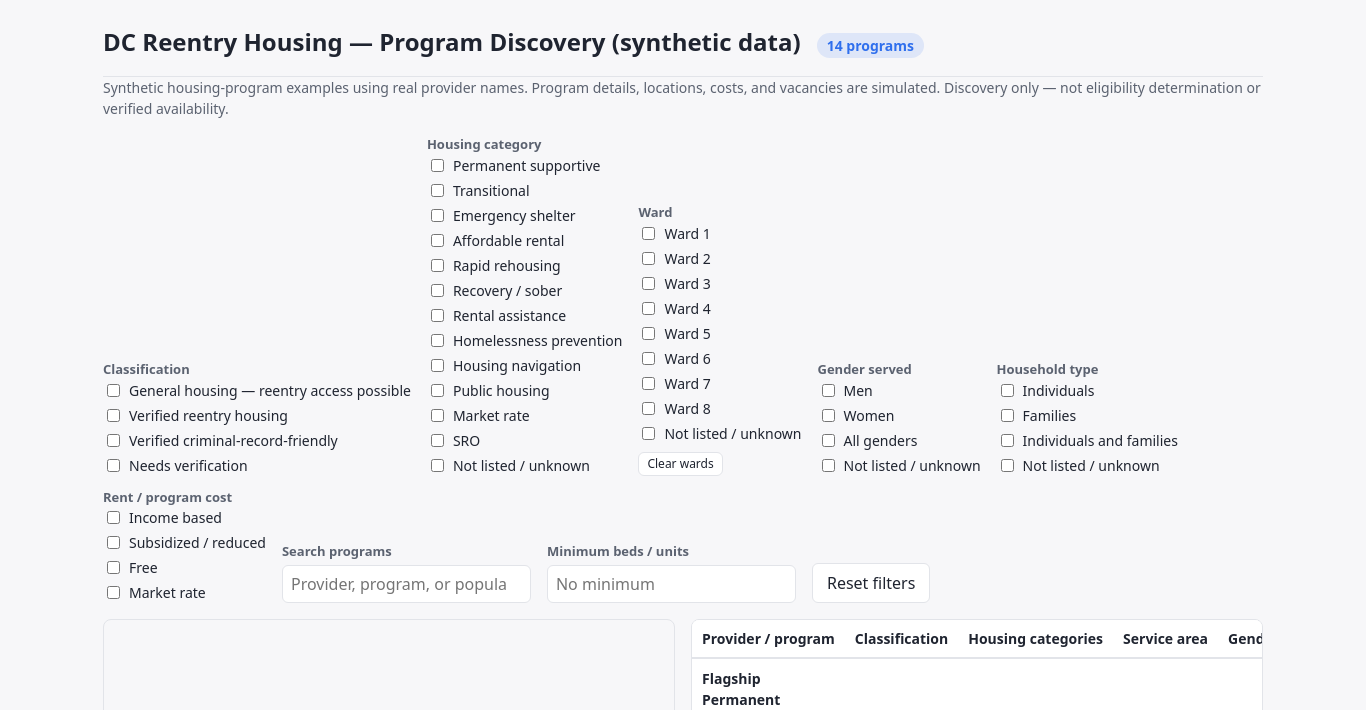
Test case: App integration › keeps previously committed results while the draft is invalid
Click the checkbox labelled "Verified reentry housing". click: (114, 415)
box: [107,408,120,422]
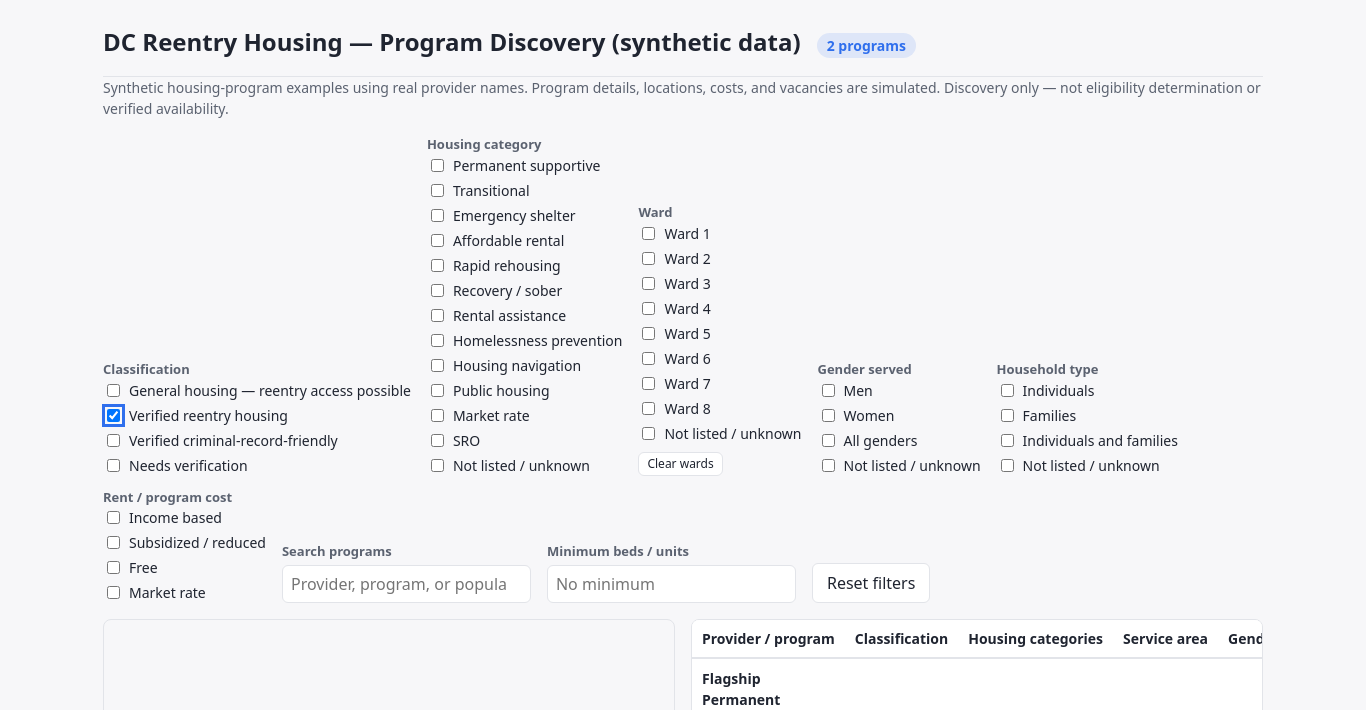
Type "1.5" into the number field labelled "Minimum beds / units". click: (672, 584)
box: [547,565,796,603]
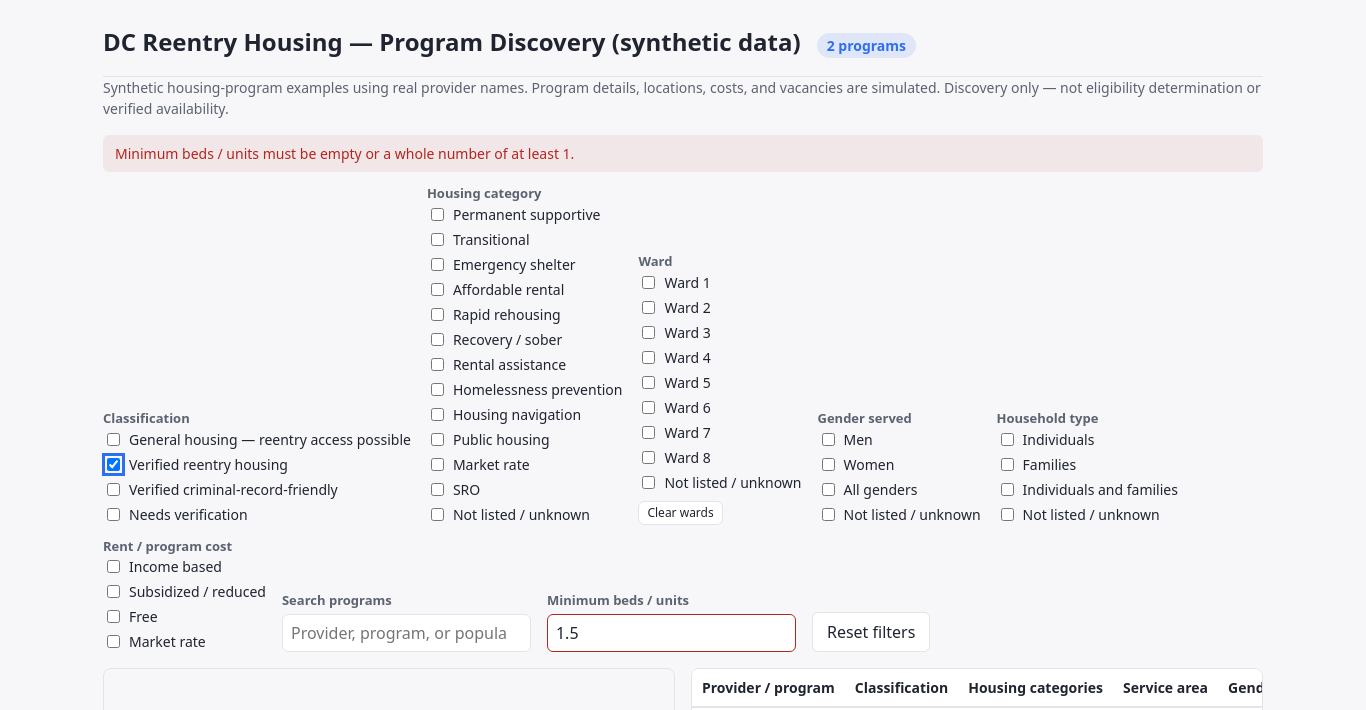
Check: the message "Minimum beds / units must be empty or a whole number of at least 1." is shown, box [103,135,1263,172]
